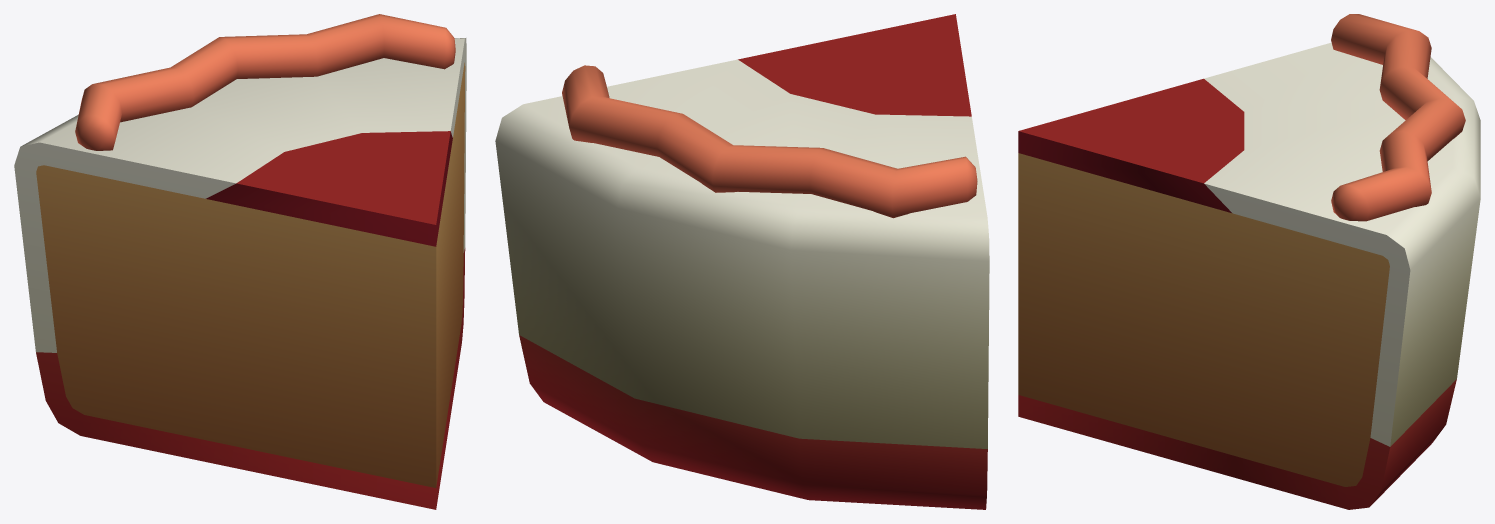
The model's file is Cake_Slice_02.glb.
3 renders of one model, left to right at view 1: azimuth 30°, elevation 25°; view 2: azimuth 150°, elevation 25°; view 3: azimuth 270°, elevation 25°, orthographic. The views are drawn at different scales.
Parts seen in each view (by area): view 1: Cake_Slice_02; view 2: Cake_Slice_02; view 3: Cake_Slice_02.
Part boxes in pixels (left/top/right/bottom): Cake_Slice_02: left=14, top=14, right=466, bottom=509; Cake_Slice_02: left=495, top=14, right=989, bottom=509; Cake_Slice_02: left=1018, top=14, right=1480, bottom=509.
Bounding box in the file's own units: 0.4474 × 0.2995 × 0.395.
Materials: 1 (1 with a texture image).
